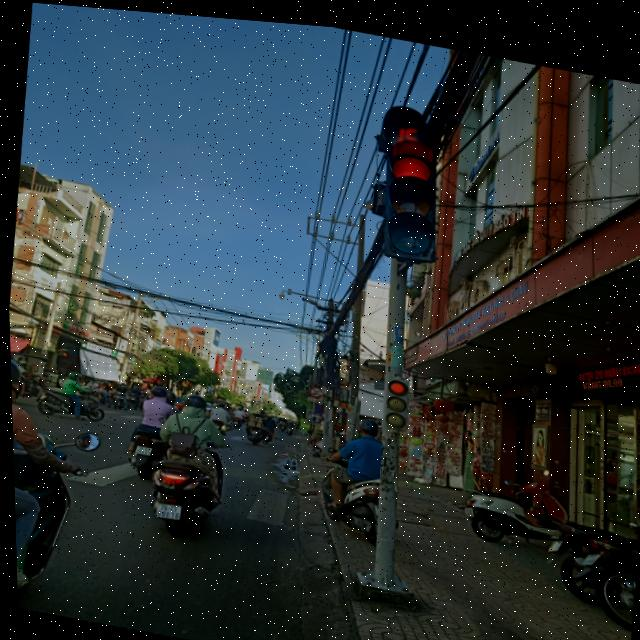Red: (365, 130, 452, 261), (375, 363, 413, 427)
